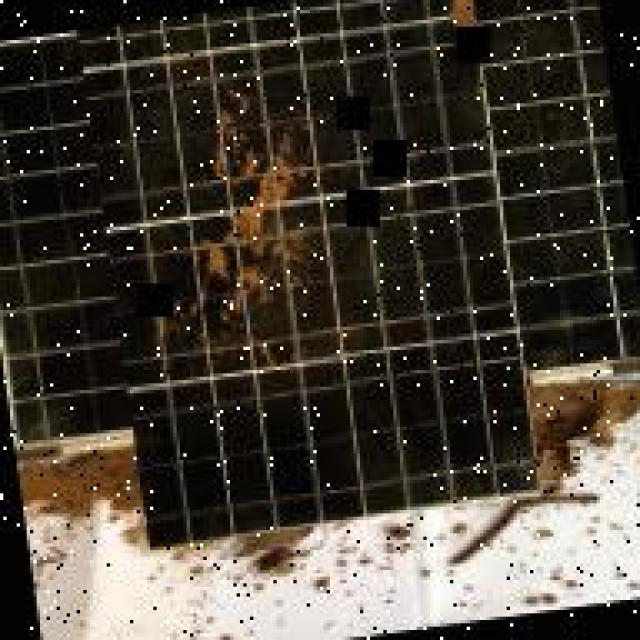dust-solar-panel: (0, 0, 640, 543)
